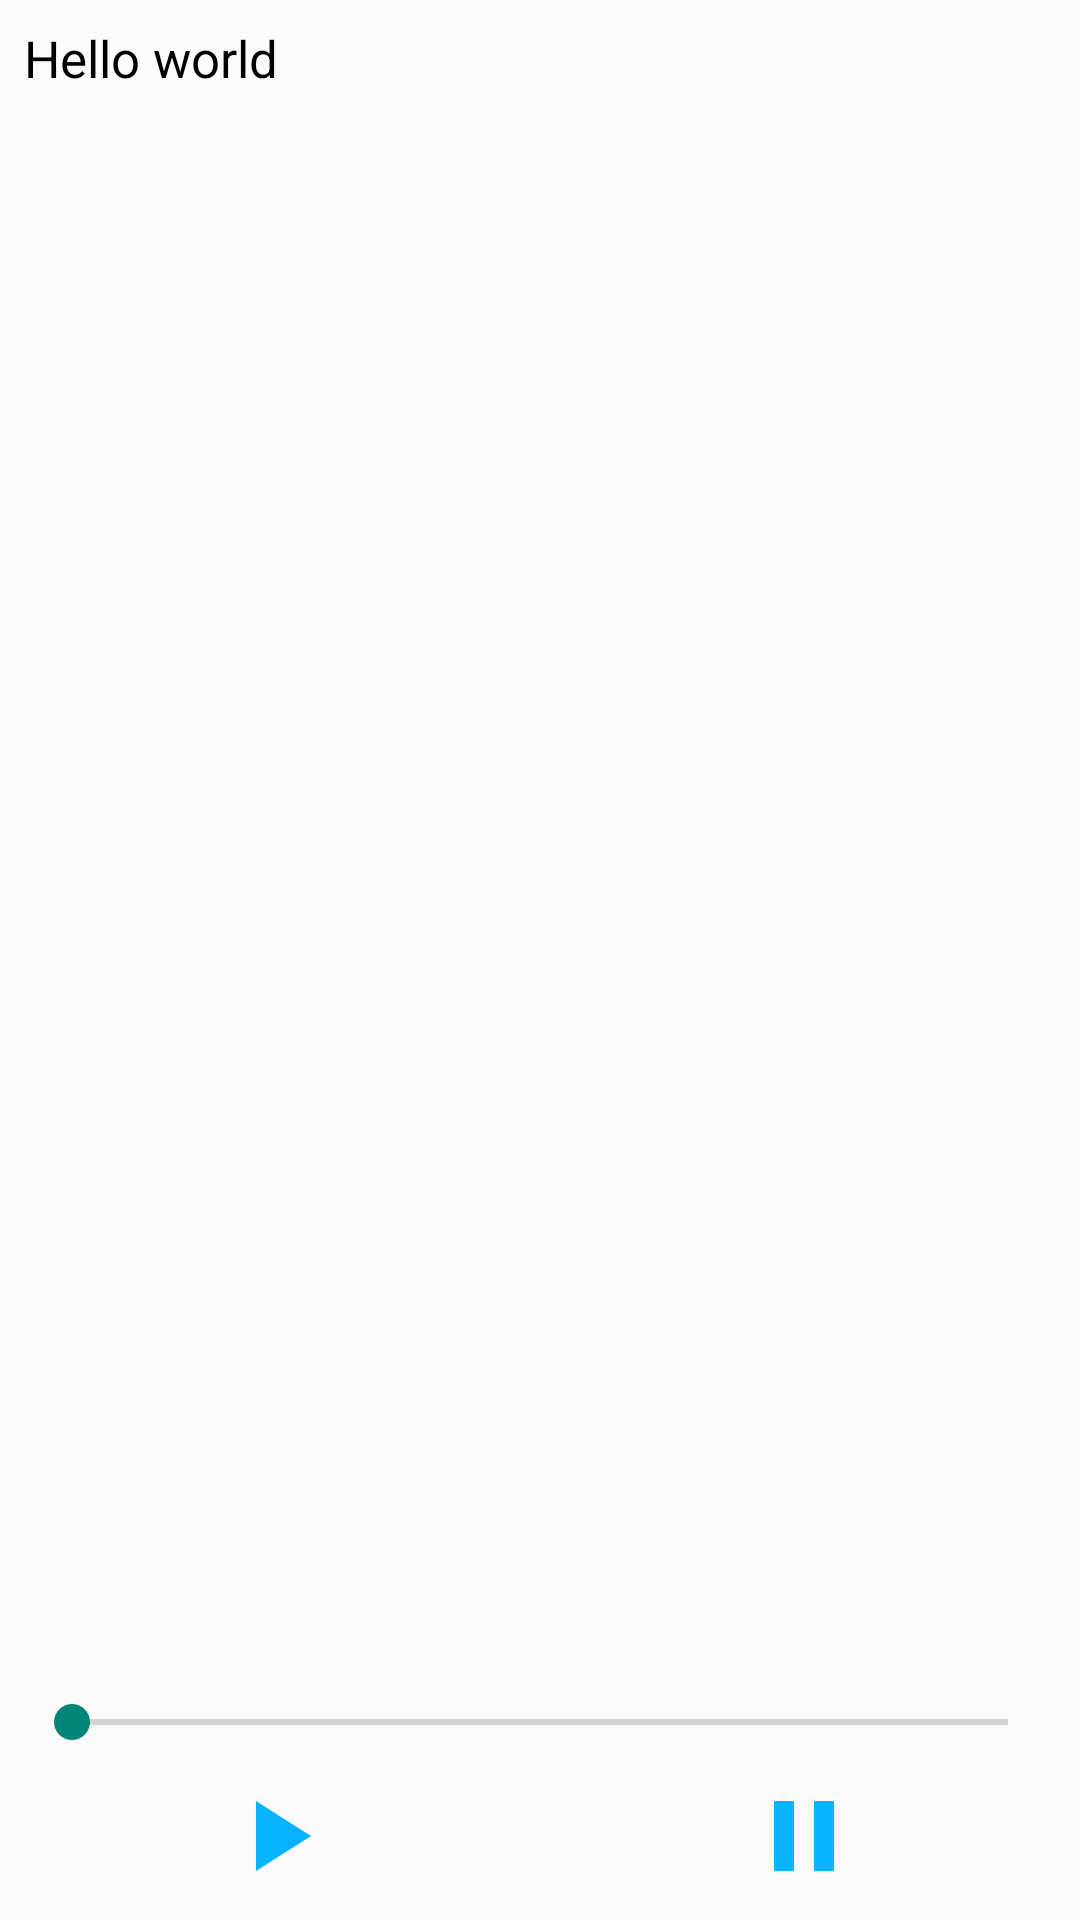

Named icons in this screenshot (1080 x 1920) and their centers, (x,y):
pause: (804,1836)
play arrow: (283,1836)
